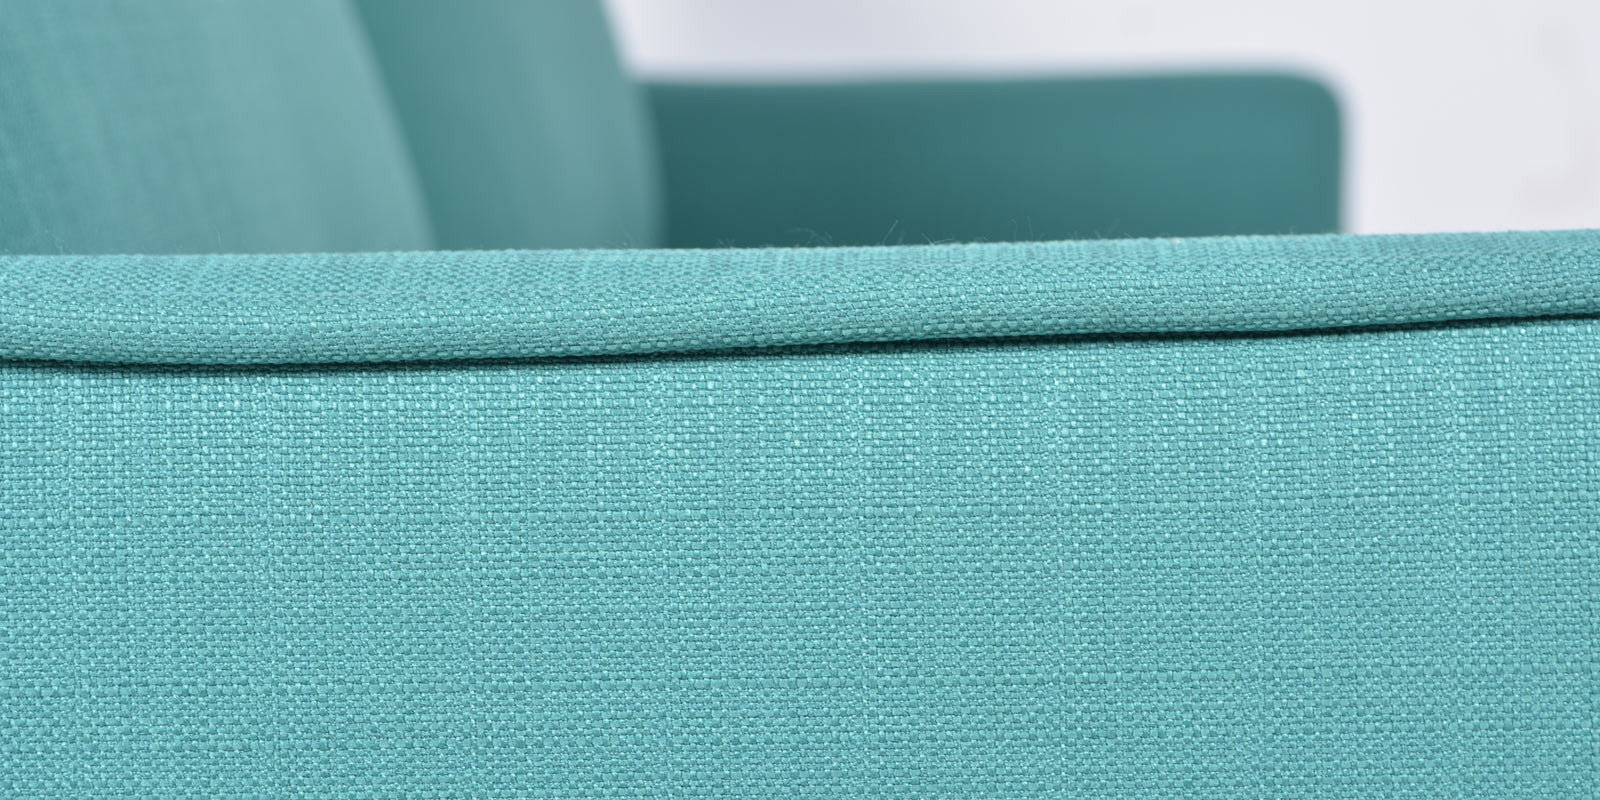Ithaca Impulse Three Seater Sofa with Throw Cushions in Jade Colour by Urban Liv: (10, 11, 1564, 800)
